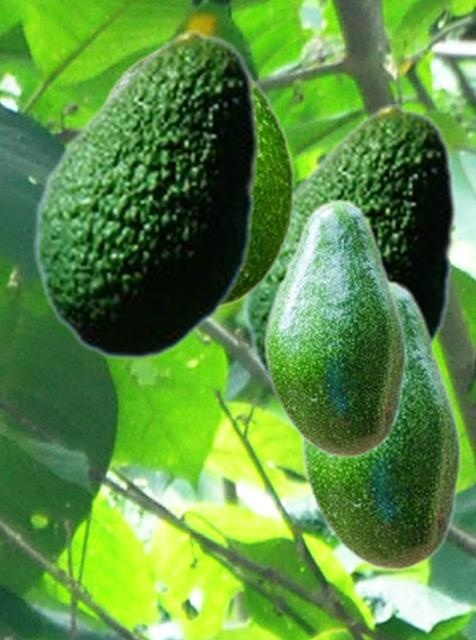avocado: (33, 30, 258, 360), (243, 104, 455, 386), (100, 43, 295, 310), (299, 279, 461, 571), (262, 198, 406, 458)
